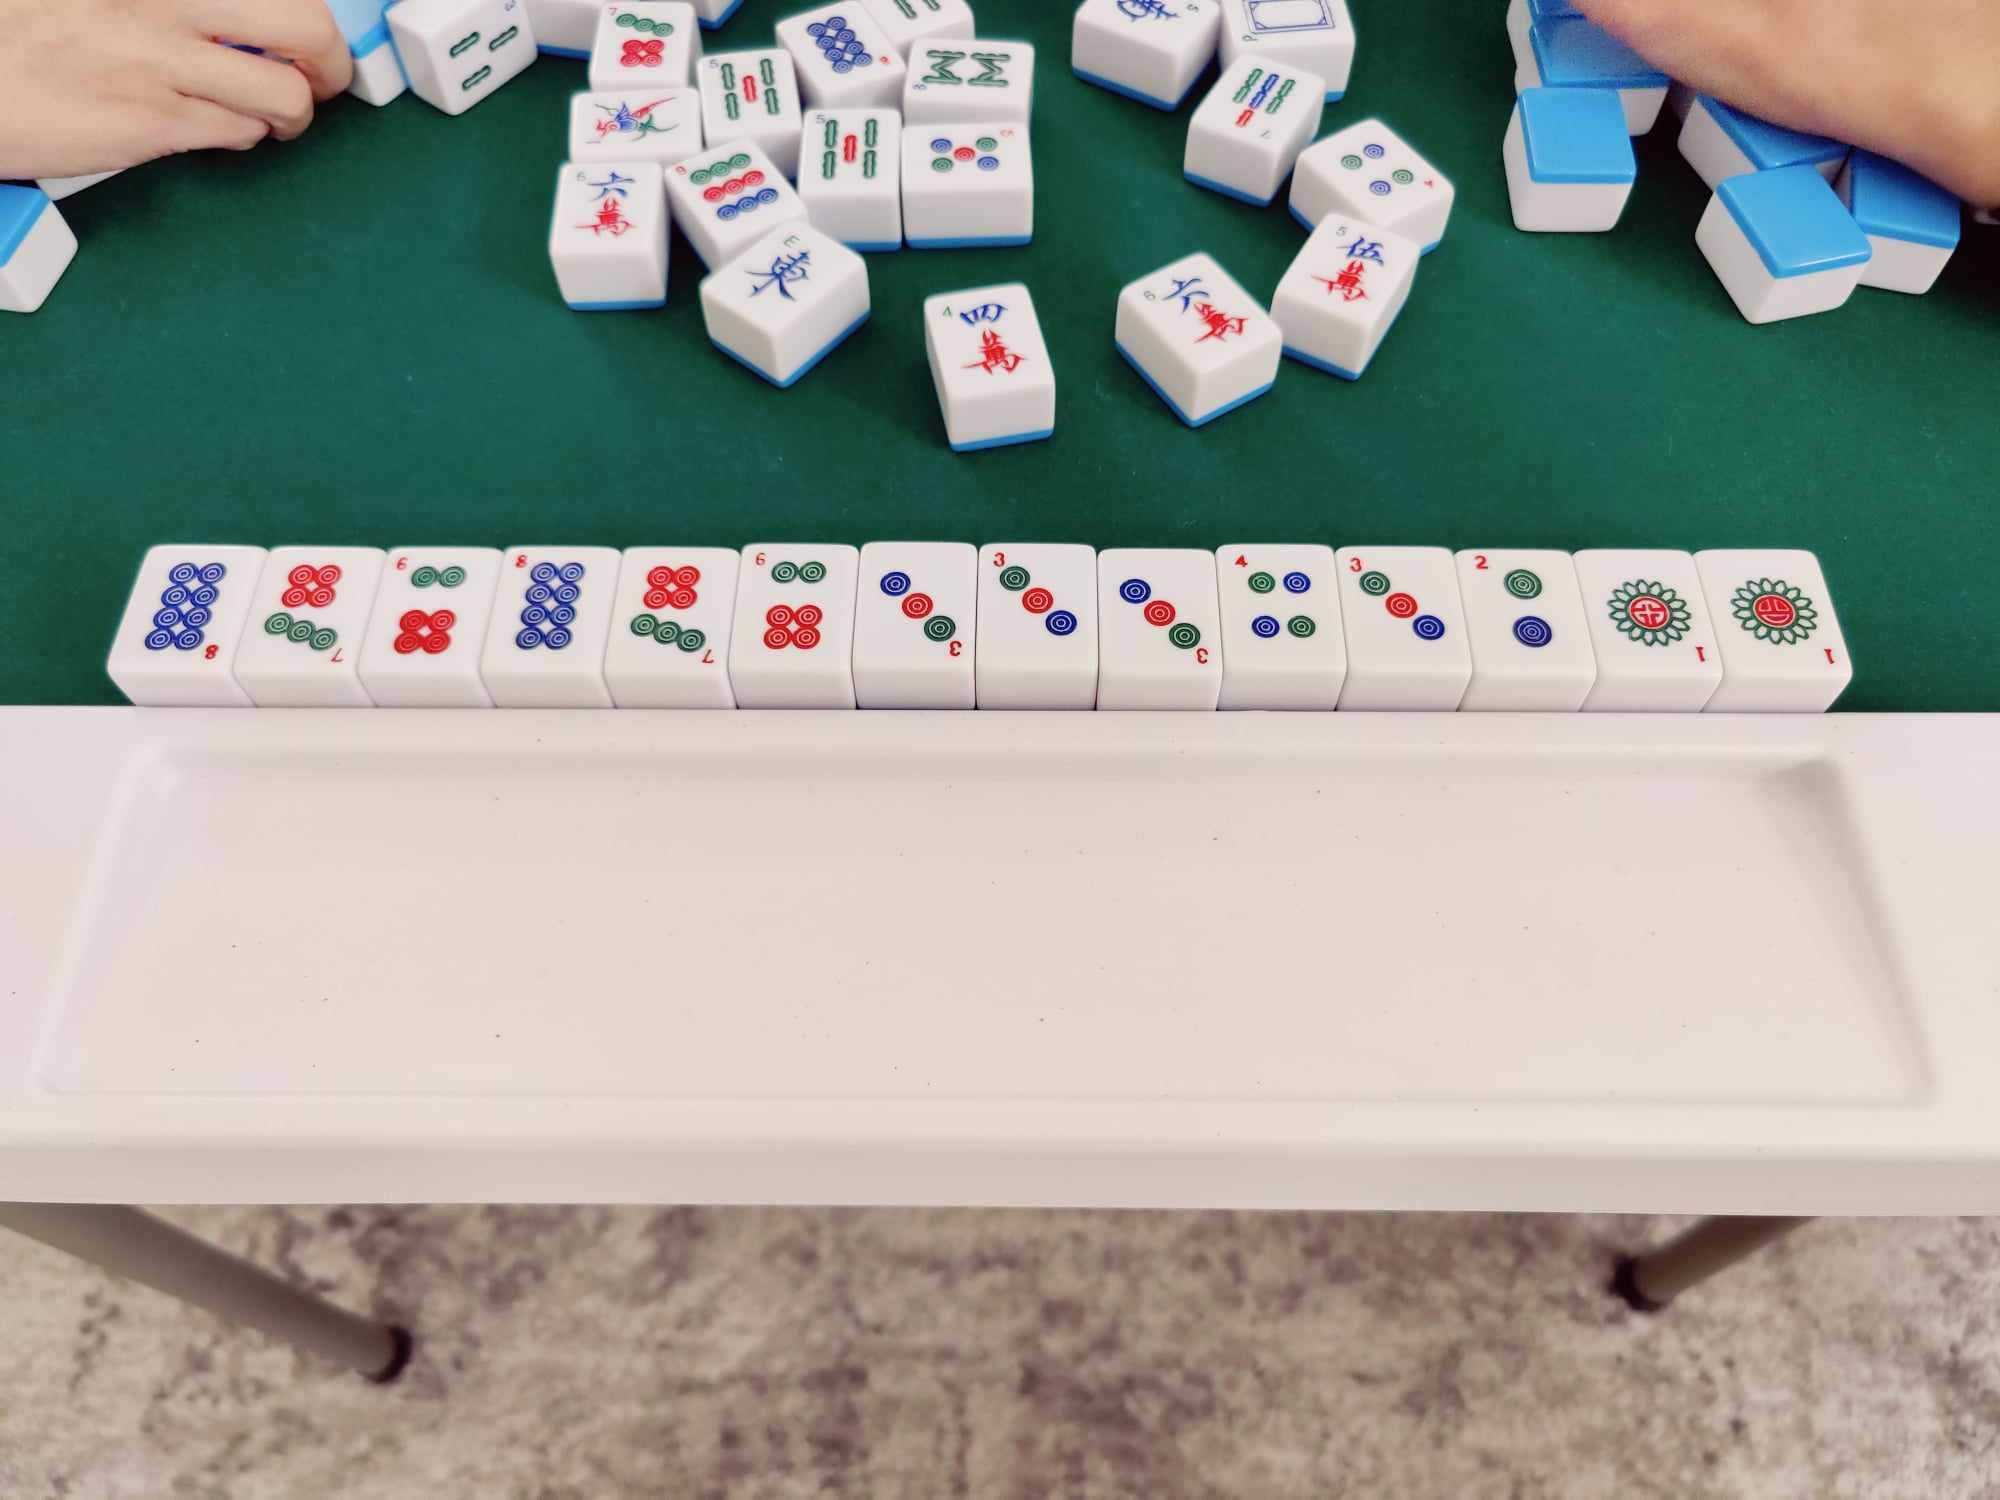circle-eight: (142, 558, 228, 666), (504, 548, 584, 660)
circle-four: (1231, 551, 1331, 662)
circle-one: (1589, 558, 1713, 674), (1726, 559, 1846, 671)
circle-seven: (622, 550, 724, 668), (260, 555, 356, 670)
circle-six: (746, 545, 843, 666), (386, 555, 476, 670)
circle-three: (1346, 548, 1458, 666), (865, 553, 972, 663), (1110, 558, 1213, 671), (987, 545, 1083, 659)
circle-two: (1469, 551, 1573, 666)
